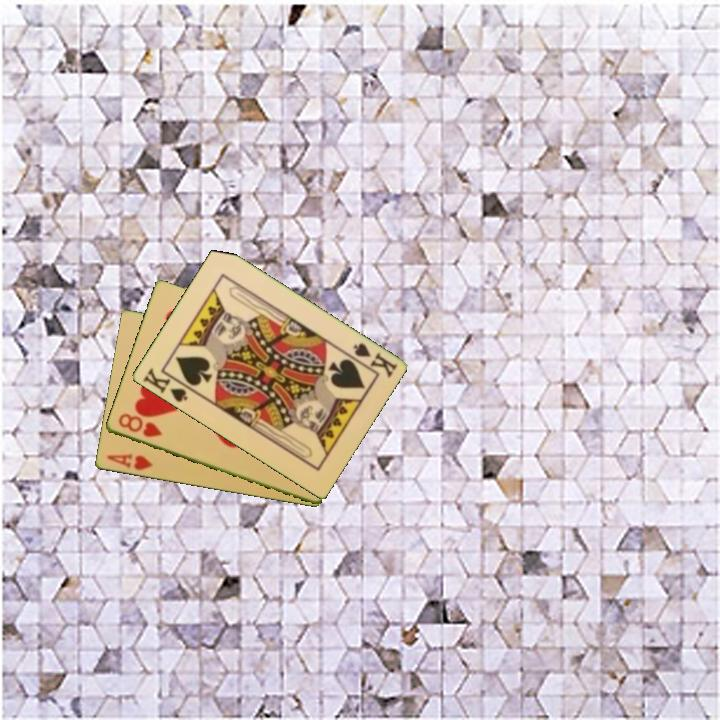8h: (114, 410, 165, 440)
Ah: (103, 450, 155, 474)
Ks: (349, 339, 400, 381), (139, 364, 190, 405)
